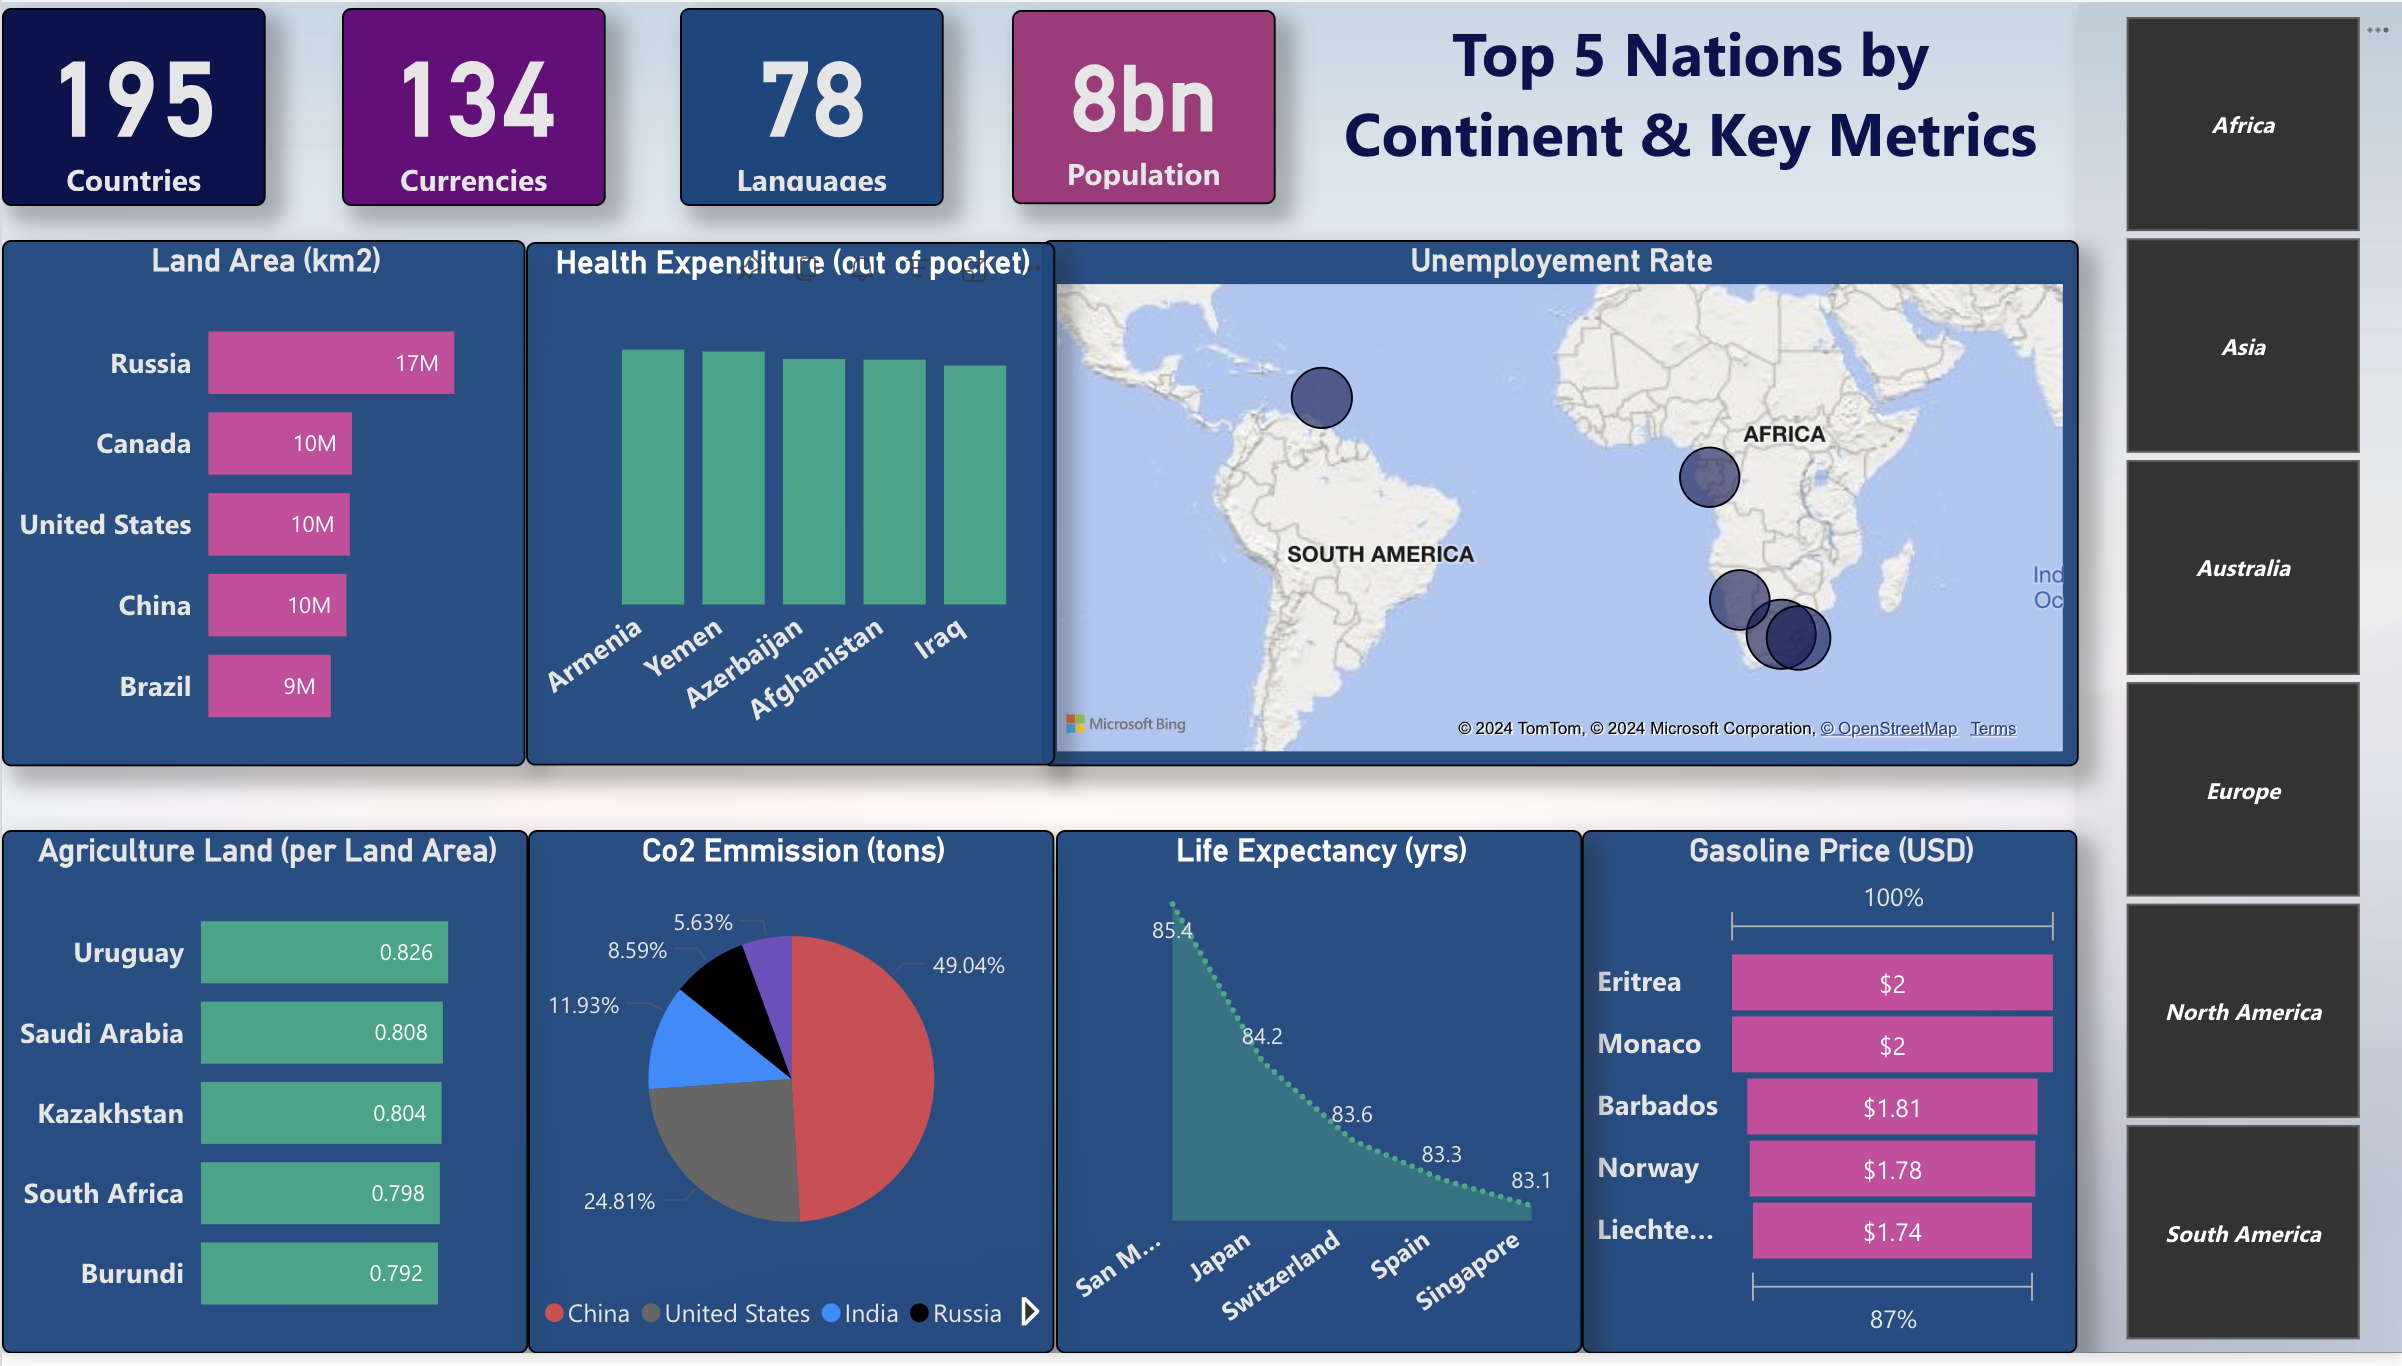

Layout of this report page (visuals, bound fields, positions):
{"tool":"powerbi","page":{"name":"Page 1","canvas":[1280,720],"ordinal":0},"visuals":[{"type":"barChart","title":"Land Area (km2)","fields":{"Category":["world-data-2023 4.Country"],"Y":["Sum(world-data-2023 4.Land Area(Km2))"]},"box":[0,126.6,279.2,280.7],"z":0},{"type":"clusteredBarChart","title":"Agriculture Land (per Land Area)","fields":{"Category":["world-data-2023 4.Country"],"Y":["Sum(world-data-2023 4.Agricultural Land( %))"]},"box":[0,440.9,280.7,279.2],"z":1000},{"type":"map","title":"Unemployement Rate","fields":{"Category":["world-data-2023 4.Country"],"Size":["Sum(world-data-2023 4.Unemployment rate)"]},"box":[553.8,126.6,552.3,280.7],"z":2000},{"type":"pieChart","title":"Co2 Emmission (tons)","fields":{"Category":["world-data-2023 4.Country"],"Y":["Sum(world-data-2023 4.Co2-Emissions)"]},"box":[280.7,440.9,280.7,279.2],"z":3000},{"type":"funnel","title":"Gasoline Price (USD)","fields":{"Category":["world-data-2023 4.Country"],"Y":["Sum(world-data-2023 4.Gasoline Price)"]},"box":[842.1,440.9,263.9,279.2],"z":4000},{"type":"areaChart","title":"Life Expectancy (yrs)","fields":{"Category":["world-data-2023 4.Country"],"Y":["Sum(world-data-2023 4.Life expectancy)"]},"box":[561.4,440.9,280.7,279.2],"z":5000},{"type":"lineStackedColumnComboChart","title":"Health Expenditure (out of pocket)","fields":{"Category":["world-data-2023 4.Country"],"Y":["Sum(world-data-2023 4.Out of pocket health expenditure)"]},"box":[279.2,128.2,282.2,279.2],"z":7000},{"type":"slicer","fields":{"Values":["world-data-2023 4.Continents"]},"box":[1106.1,1.5,173.9,718.6],"z":8000},{"type":"card","fields":{"Values":["Count(world-data-2023 4.Country)"]},"box":[0,3.1,140.4,105.3],"z":9000},{"type":"card","fields":{"Values":["Count(world-data-2023 4.Currency-Code)"]},"box":[181.5,3.1,140.4,105.3],"z":10000},{"type":"card","fields":{"Values":["Count(world-data-2023 4.Official language)"]},"box":[361.6,3.1,140.4,105.3],"z":11000},{"type":"card","fields":{"Values":["Sum(world-data-2023 4.Population)"]},"box":[538.5,4.6,140.4,103.7],"z":12000},{"type":"textbox","box":[694.2,0,411.9,126.6],"z":13000}]}

Visuals, with their boxes in screenshot pixels (x1, y1, x2, y2), scaled from the page's 1280x720 canvas onto the 2402x1366 screenshot:
"Land Area (km2)" barChart: 0/240/524/773
"Agriculture Land (per Land Area)" clusteredBarChart: 0/836/527/1365
"Unemployement Rate" map: 1039/240/2076/773
"Co2 Emmission (tons)" pieChart: 527/836/1054/1365
"Gasoline Price (USD)" funnel: 1580/836/2075/1365
"Life Expectancy (yrs)" areaChart: 1054/836/1580/1365
"Health Expenditure (out of pocket)" lineStackedColumnComboChart: 524/243/1054/773
slicer - world-data-2023 4.Continents: 2076/3/2401/1365
card - Count(world-data-2023 4.Country): 0/6/263/206
card - Count(world-data-2023 4.Currency-Code): 341/6/604/206
card - Count(world-data-2023 4.Official language): 679/6/942/206
card - Sum(world-data-2023 4.Population): 1011/9/1274/205
textbox: 1303/0/2076/240
